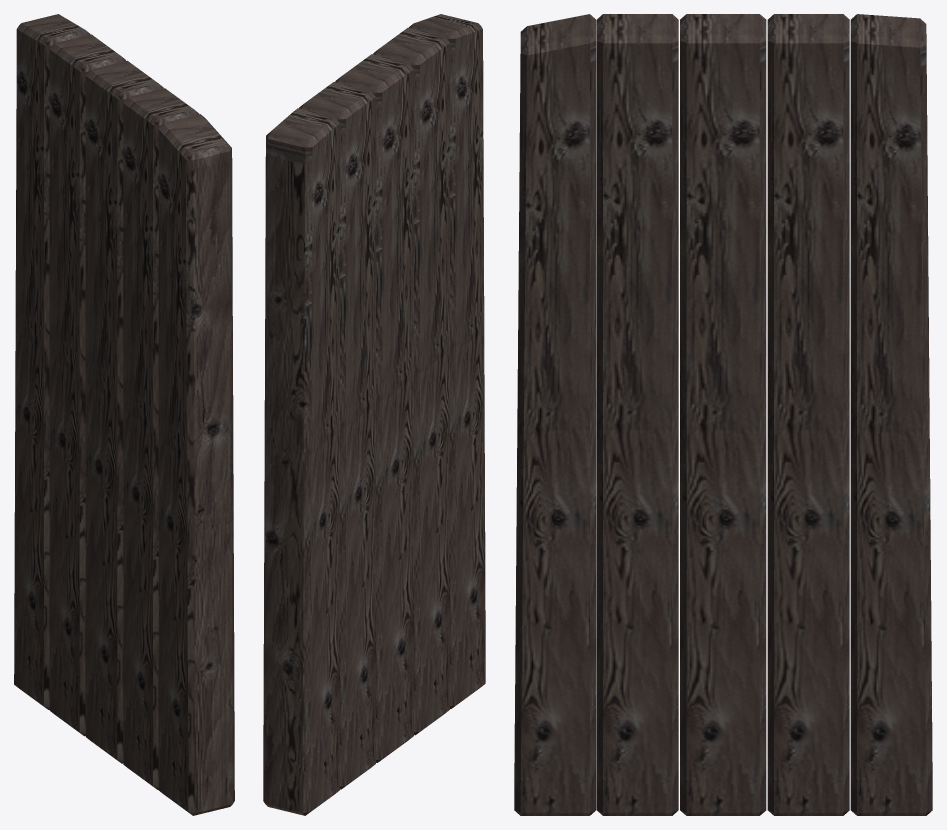
The model's file is Maderas_puerta.fbx.
3 renders of one model, left to right at view 1: azimuth 30°, elevation 25°; view 2: azimuth 150°, elevation 25°; view 3: azimuth 270°, elevation 25°, orthographic. The views are drawn at different scales.
Parts seen in each view (by area): view 1: Tablon_madera8, Tablon_madera6, Tablon_madera2, Tablon_madera7, Tablon_madera5; view 2: Tablon_madera5, Tablon_madera6, Tablon_madera7, Tablon_madera2, Tablon_madera8; view 3: Tablon_madera6, Tablon_madera2, Tablon_madera7, Tablon_madera5, Tablon_madera8.
Boxes of the visible parts, x1,y1,x2,y2 form: Tablon_madera8: (158, 114, 234, 815); Tablon_madera6: (85, 60, 163, 763); Tablon_madera2: (49, 34, 125, 736); Tablon_madera7: (123, 88, 199, 789); Tablon_madera5: (14, 14, 90, 709); Tablon_madera5: (263, 108, 339, 815); Tablon_madera6: (335, 54, 413, 762); Tablon_madera7: (373, 27, 449, 735); Tablon_madera2: (299, 82, 375, 789); Tablon_madera8: (409, 14, 485, 708); Tablon_madera6: (680, 14, 766, 815); Tablon_madera2: (767, 14, 849, 815); Tablon_madera7: (596, 14, 678, 815); Tablon_madera5: (850, 14, 932, 815); Tablon_madera8: (514, 14, 596, 815).
Size of the model in its own units: 1 by 13.83 by 6.71.
